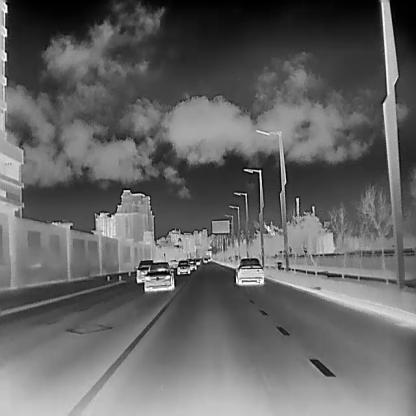car: (140, 261, 174, 290), (235, 256, 263, 284), (135, 258, 152, 282), (176, 259, 190, 273), (189, 258, 196, 270), (202, 256, 208, 262), (195, 257, 200, 264), (207, 256, 211, 261)
